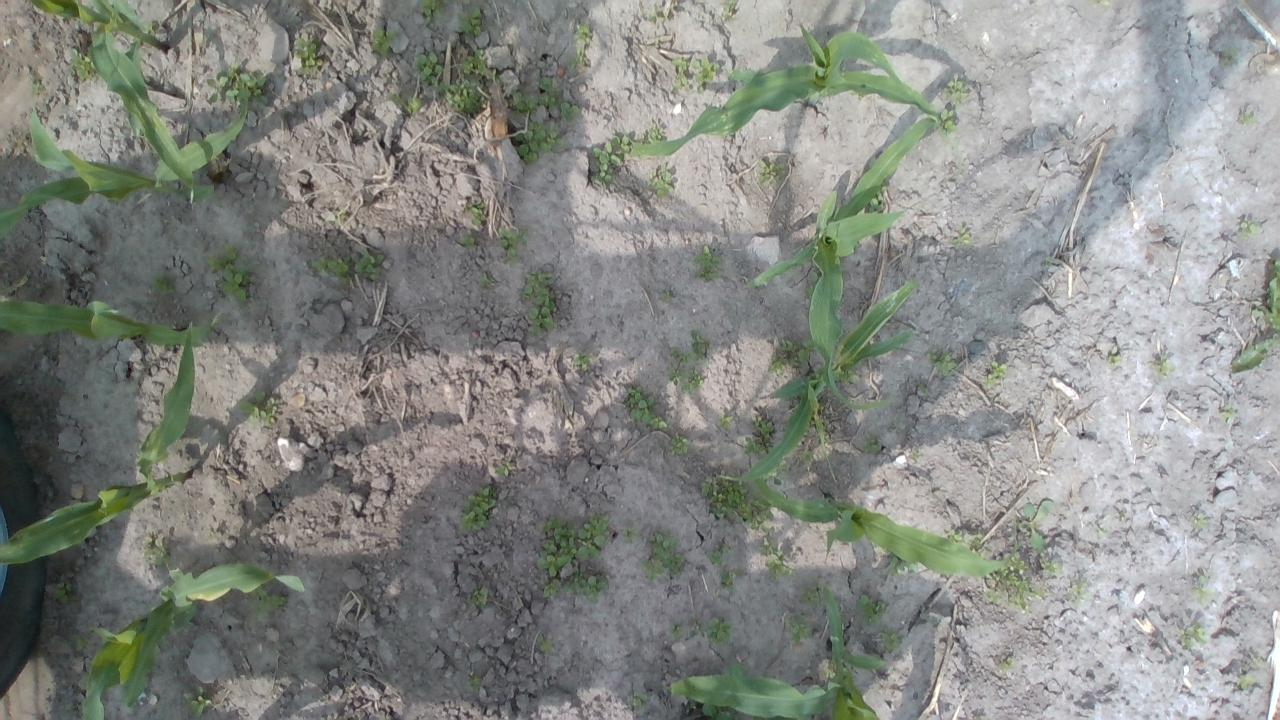Maize: (738, 115, 933, 412), (0, 320, 197, 564), (718, 278, 918, 484), (625, 24, 939, 152), (81, 561, 305, 720), (28, 0, 196, 207), (0, 98, 247, 235), (662, 585, 891, 720), (750, 474, 1019, 576), (1, 294, 210, 352)
Weeds: (1231, 255, 1280, 374), (698, 470, 774, 534), (982, 546, 1046, 612), (203, 60, 270, 108), (204, 242, 254, 304), (520, 269, 560, 337), (536, 513, 576, 578), (642, 530, 688, 582), (515, 120, 564, 162), (590, 134, 630, 184), (433, 78, 486, 115), (456, 486, 496, 534), (626, 386, 668, 430), (1018, 499, 1052, 552), (562, 567, 610, 604), (575, 512, 610, 562), (237, 390, 280, 428), (759, 536, 794, 580), (946, 528, 992, 561), (250, 583, 288, 619), (310, 253, 352, 285), (690, 244, 724, 282), (497, 226, 528, 266), (459, 48, 496, 80), (292, 38, 322, 76), (924, 347, 960, 378), (691, 55, 720, 93), (386, 89, 426, 116), (140, 535, 173, 567), (182, 685, 212, 720), (456, 6, 484, 43), (856, 594, 886, 628), (884, 550, 920, 578), (411, 52, 442, 84), (354, 247, 384, 280), (754, 158, 790, 184), (784, 610, 813, 642), (66, 48, 95, 80), (689, 330, 713, 366), (650, 162, 674, 198), (704, 617, 732, 646), (417, 1, 447, 28), (944, 74, 969, 106), (508, 90, 538, 116), (718, 566, 746, 593), (368, 28, 394, 57), (52, 580, 82, 604), (671, 57, 690, 94), (706, 539, 731, 567), (538, 77, 558, 111), (983, 361, 1007, 389), (1178, 624, 1206, 648), (865, 184, 887, 214), (681, 370, 706, 396), (700, 702, 736, 720), (936, 108, 957, 138), (860, 431, 884, 457), (1152, 353, 1176, 379), (798, 584, 826, 606), (742, 436, 772, 456), (766, 460, 790, 485), (1064, 581, 1088, 606), (467, 198, 487, 226), (150, 272, 173, 296), (568, 45, 590, 70), (749, 414, 772, 437), (878, 629, 902, 651), (68, 632, 93, 653), (467, 585, 488, 610), (666, 345, 692, 365), (798, 338, 818, 364), (1238, 219, 1262, 240), (458, 228, 478, 252), (766, 353, 786, 377), (834, 368, 860, 386), (1040, 558, 1063, 578), (626, 689, 650, 708), (1189, 586, 1213, 605), (540, 578, 560, 599), (664, 365, 684, 386), (560, 102, 580, 123), (1238, 104, 1259, 124), (618, 525, 640, 544), (804, 270, 820, 296), (668, 618, 685, 642), (668, 434, 688, 454), (1235, 672, 1256, 690), (492, 460, 514, 477), (722, 662, 748, 676), (466, 675, 485, 694), (573, 351, 592, 370), (571, 24, 591, 42), (646, 9, 670, 24), (950, 227, 970, 245), (1220, 47, 1240, 65), (1108, 345, 1122, 370), (721, 0, 738, 20), (1190, 512, 1208, 530), (646, 124, 663, 143), (997, 657, 1016, 674), (538, 635, 554, 655), (332, 204, 346, 226), (912, 377, 928, 395), (29, 80, 45, 97), (1218, 404, 1234, 421), (1250, 652, 1266, 669), (779, 338, 798, 352), (717, 414, 733, 429), (477, 274, 494, 288), (888, 414, 901, 432), (77, 672, 89, 691), (630, 148, 648, 160), (203, 529, 218, 543), (800, 450, 816, 463), (849, 89, 866, 101), (660, 289, 674, 302), (909, 448, 922, 460), (144, 22, 157, 34), (1086, 0, 1112, 6), (787, 356, 799, 368), (1044, 255, 1055, 268), (692, 618, 704, 629), (65, 702, 76, 712), (1198, 574, 1207, 584), (637, 134, 645, 144), (854, 241, 860, 250)
